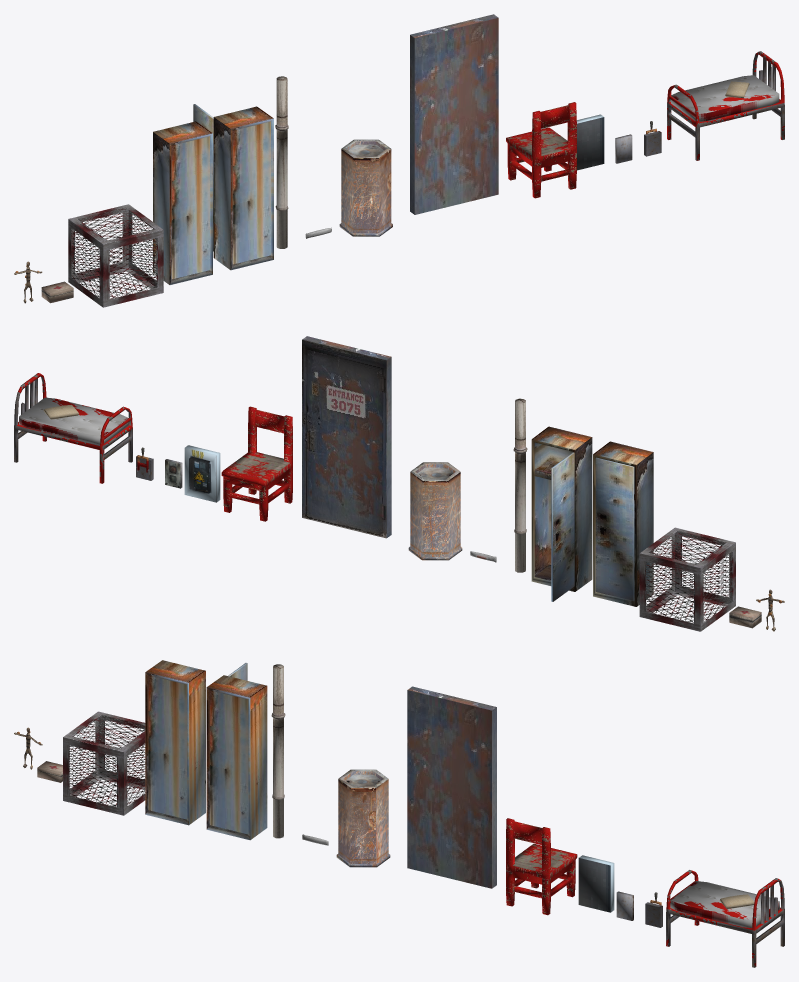
File: horror_game_prop_collection_1.glb
The picture shows the model from 3 angles, top to bottom: view 1: azimuth 30°, elevation 25°; view 2: azimuth 150°, elevation 25°; view 3: azimuth 330°, elevation 25°; orthographic projection.
Parts seen in each view (by area): view 1: Door, Locker(open), Locker(closed), Wirebox, Barrel, Chair, Bed, Bed Frame, Pipe, PowerBox, Healthbox; view 2: Door, Locker(open), Locker(closed), Wirebox, Barrel, Chair, Bed, Bed Frame, Pipe, PowerBox, Healthbox; view 3: Door, Locker(open), Locker(closed), Wirebox, Barrel, Chair, Bed, Bed Frame, Pipe, PowerBox.
Part boxes in pixels (x1,y1,x2,y2): Door: (410, 14, 498, 214); Locker(open): (193, 104, 273, 270); Locker(closed): (153, 121, 212, 284); Wirebox: (68, 204, 163, 307); Barrel: (339, 139, 392, 236); Chair: (506, 102, 576, 198); Bed: (671, 75, 779, 121); Bed Frame: (667, 51, 784, 160); Pipe: (275, 76, 288, 248); PowerBox: (576, 114, 604, 170); Healthbox: (41, 281, 73, 303); Door: (302, 336, 391, 538); Locker(open): (531, 426, 592, 601); Locker(closed): (593, 441, 653, 606); Wirebox: (639, 527, 735, 631); Barrel: (408, 462, 462, 560); Chair: (221, 406, 292, 521); Bed: (19, 397, 128, 444); Bed Frame: (14, 373, 132, 483); Pipe: (513, 398, 527, 572); PowerBox: (184, 445, 220, 502); Healthbox: (729, 606, 761, 628); Door: (407, 686, 496, 888); Locker(open): (206, 663, 267, 840); Locker(closed): (145, 660, 205, 825); Wirebox: (63, 711, 145, 815); Barrel: (336, 769, 390, 867); Chair: (506, 818, 577, 915); Bed: (670, 881, 779, 927); Bed Frame: (666, 870, 784, 967); Pipe: (271, 664, 285, 838); PowerBox: (578, 855, 614, 912).
Bounding box in the file's own units: 56.73 × 12.95 × 5.96.
Materials: 11 (11 with a texture image).
